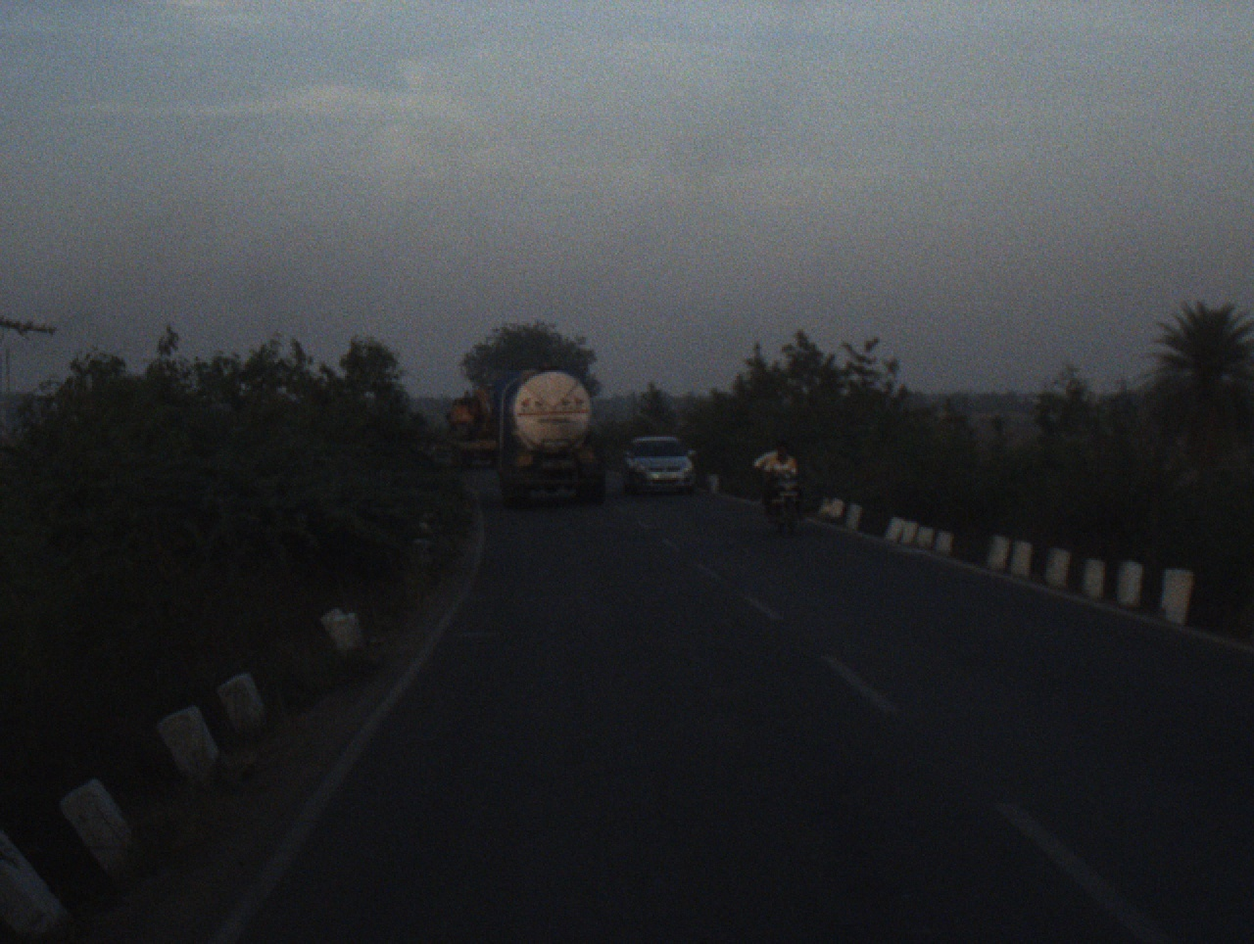car: (621, 426, 703, 496)
motorcycle: (760, 470, 806, 533)
rider: (751, 438, 793, 483), (769, 452, 801, 508)
truck: (485, 364, 611, 509)
vehicle fallback: (436, 383, 505, 472)
